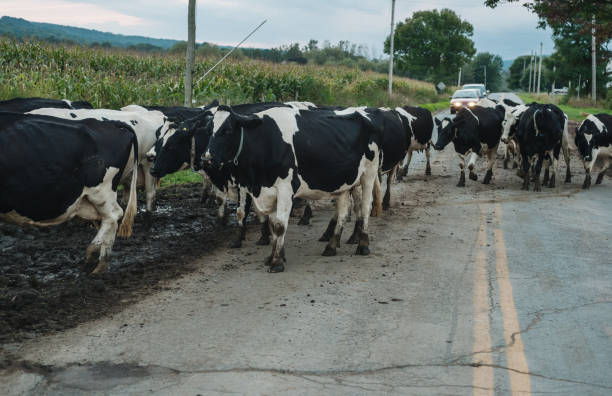inek: (205, 108, 401, 263), (1, 115, 142, 279), (438, 101, 512, 181), (514, 98, 566, 195), (572, 115, 611, 189)
